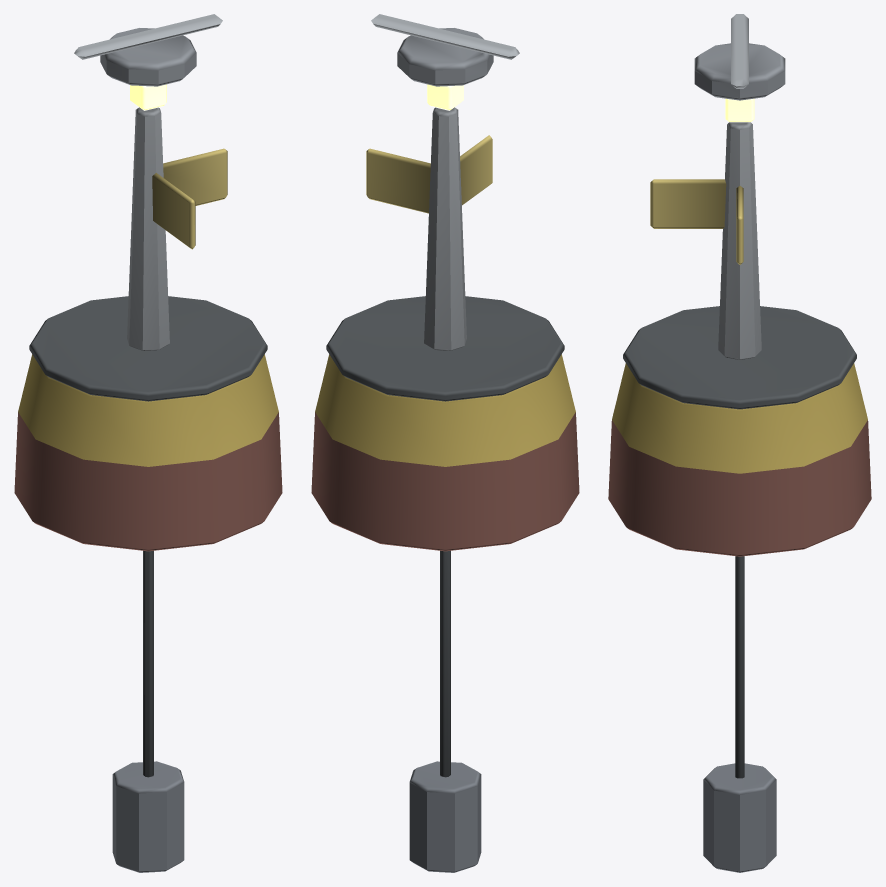
File: sonar_buoy.glb
3 views of the same model, side by side, from view 1: azimuth 30°, elevation 25°; view 2: azimuth 150°, elevation 25°; view 3: azimuth 270°, elevation 25° (orthographic).
Visible parts, largest first — view 1: Body, Spinner; view 2: Body, Spinner; view 3: Body, Spinner.
Part boxes in pixels (x1,y1,x2,y2): Body: (14, 84, 282, 872); Spinner: (74, 14, 222, 86); Body: (311, 84, 579, 872); Spinner: (371, 14, 519, 86); Body: (608, 98, 871, 872); Spinner: (694, 14, 785, 100).
Size of the model in its own units: 1.44 by 4.9 by 1.44.
